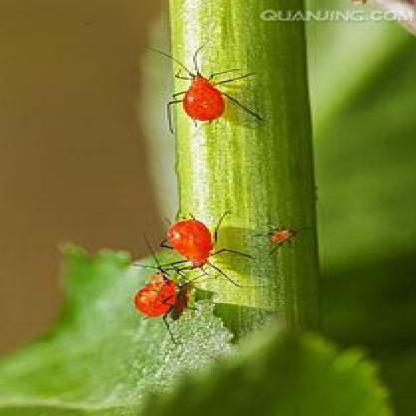aphid: (139, 38, 277, 140), (152, 205, 244, 281), (119, 259, 198, 322), (256, 218, 309, 260)
